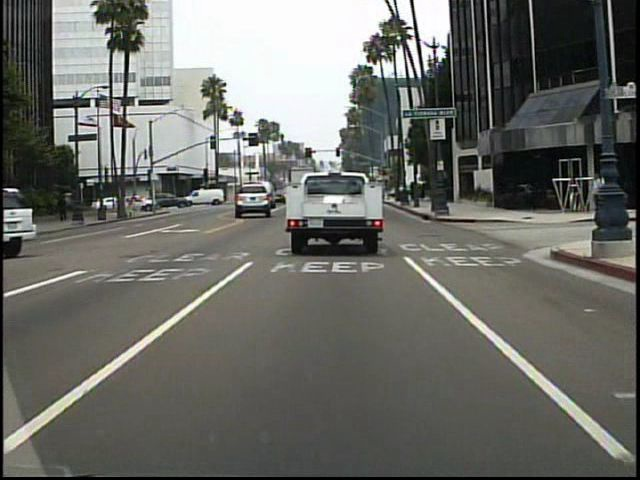person: (595, 167, 610, 217), (590, 171, 602, 213), (141, 194, 150, 213)
